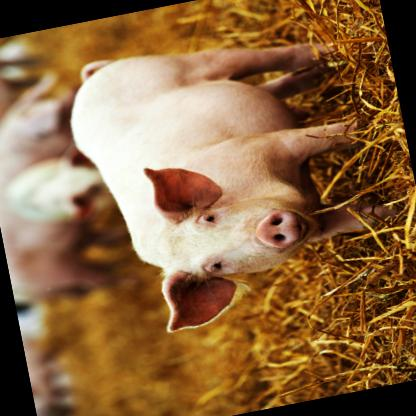Pig: (50, 0, 415, 347)
